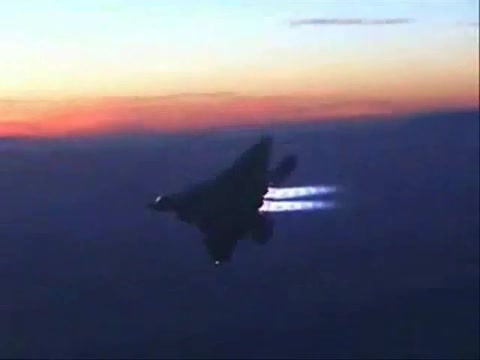aeroplane: (149, 140, 307, 267)
